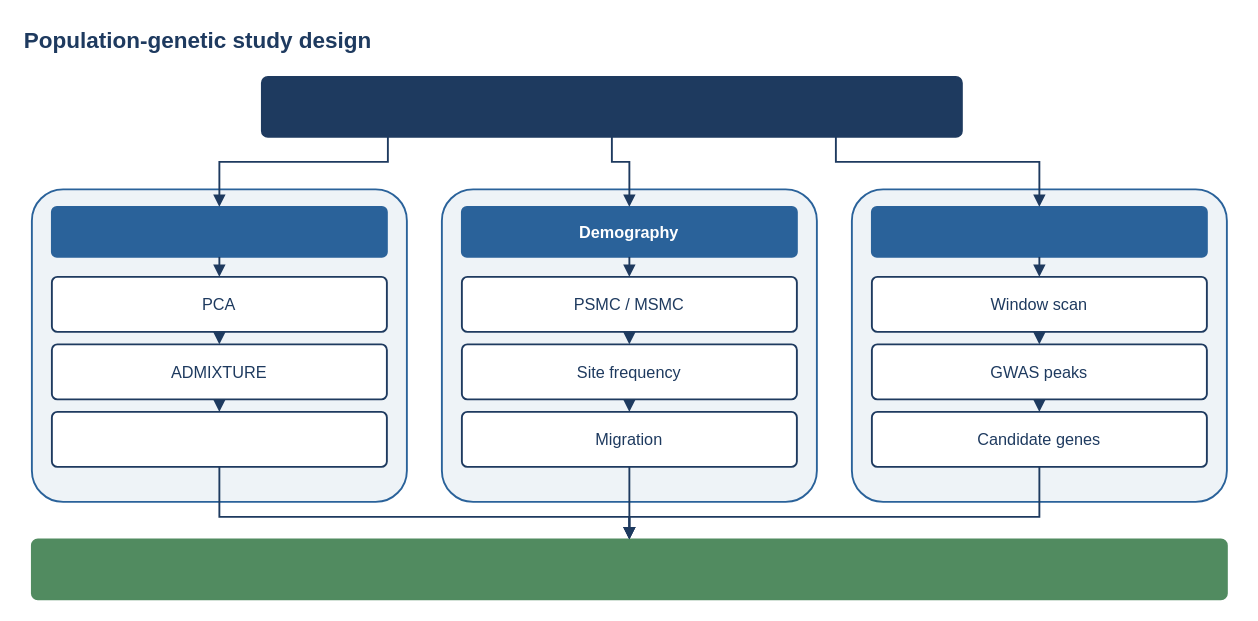
Some shapes in this 1258 by 621 pixel diagram are drawn without their labels. Here are the shapes that lost their labels. From the top down, the centre of each, then its label:
At pixel 611 106: "How did these populations diverge and adapt?".
At pixel 218 231: "Structure".
At pixel 1038 231: "Selection".
At pixel 218 438: "Pairwise Fst".
At pixel 628 569: "Integrated population history".
